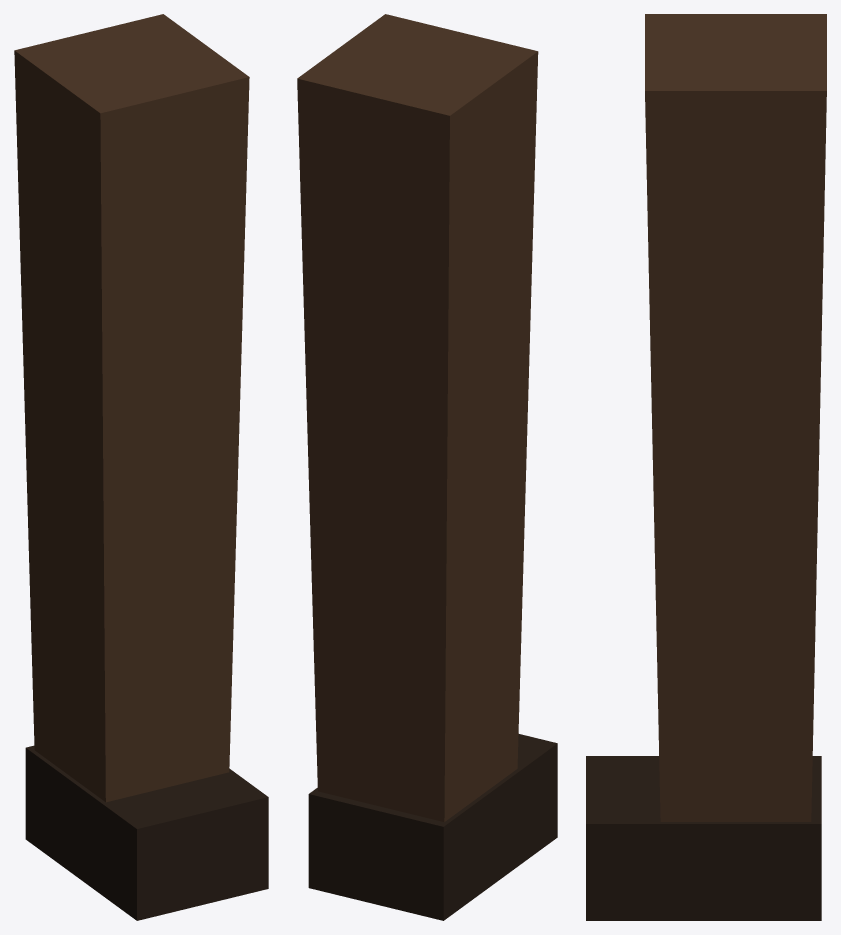
The model's file is smith_leg.glb.
3 views of the same model, side by side, from view 1: azimuth 30°, elevation 25°; view 2: azimuth 150°, elevation 25°; view 3: azimuth 270°, elevation 25° (orthographic). The views are drawn at different scales.
Parts seen in each view (by area): view 1: smith_leg; view 2: smith_leg; view 3: smith_leg.
Boxes of the visible parts, left/top/right/bottom form: smith_leg: left=14, top=14, right=268, bottom=920; smith_leg: left=297, top=14, right=557, bottom=920; smith_leg: left=586, top=14, right=826, bottom=920.
Bounding box in the file's own units: 0.17 × 0.86 × 0.225.
